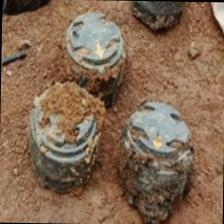M14: (126, 104, 196, 186), (27, 86, 94, 170), (72, 9, 128, 90)
